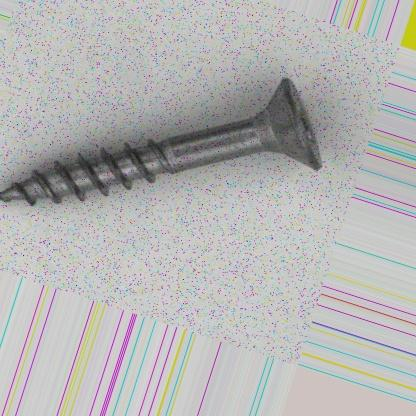metal: (2, 77, 327, 221)
